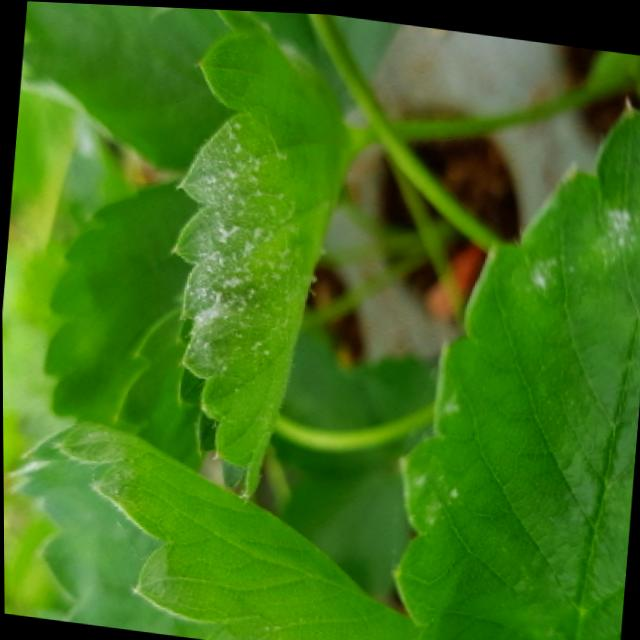Powdery Mildew Leaf: (395, 101, 640, 640), (168, 8, 359, 501)
